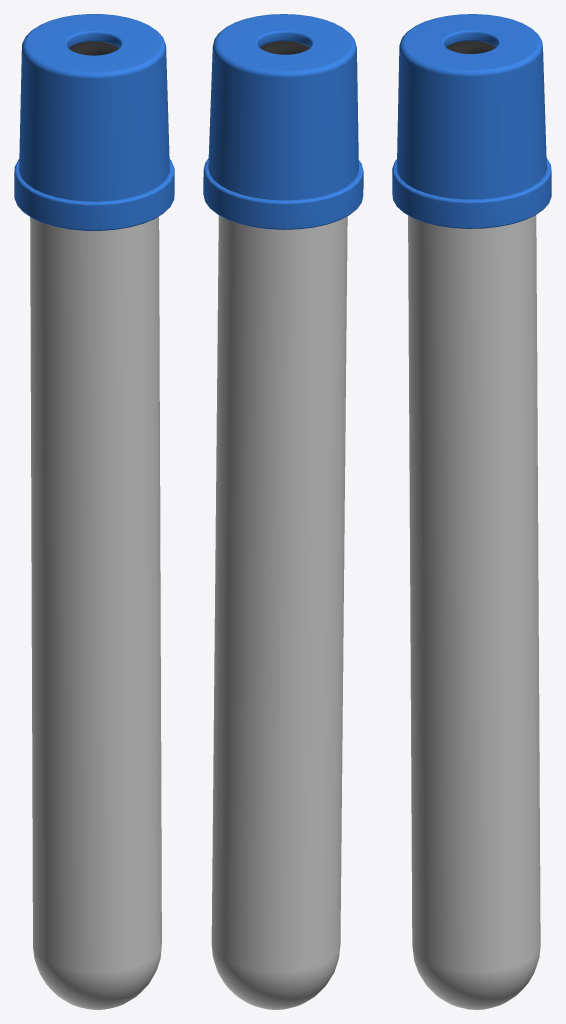
The model's file is Vial.fbx.
The picture shows the model from 3 angles, left to right: view 1: azimuth 30°, elevation 25°; view 2: azimuth 150°, elevation 25°; view 3: azimuth 270°, elevation 25°; orthographic projection.
Parts seen in each view (by area): view 1: Cylinder.006; view 2: Cylinder.006; view 3: Cylinder.006.
Part boxes in pixels (box(x1,y1,x2,y2)): Cylinder.006: box(14, 14, 174, 1009); Cylinder.006: box(203, 14, 363, 1009); Cylinder.006: box(392, 14, 551, 1009).
Bounding box in the file's own units: 1.61 × 10.7 × 1.61.
